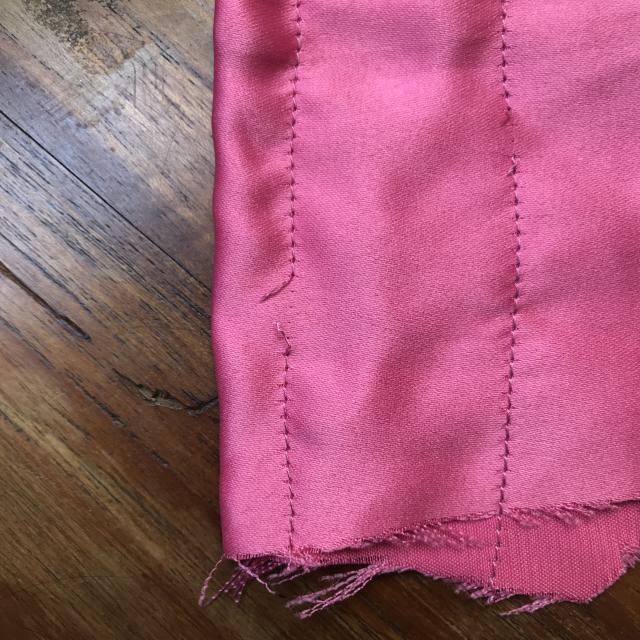broken: (239, 244, 325, 376)
